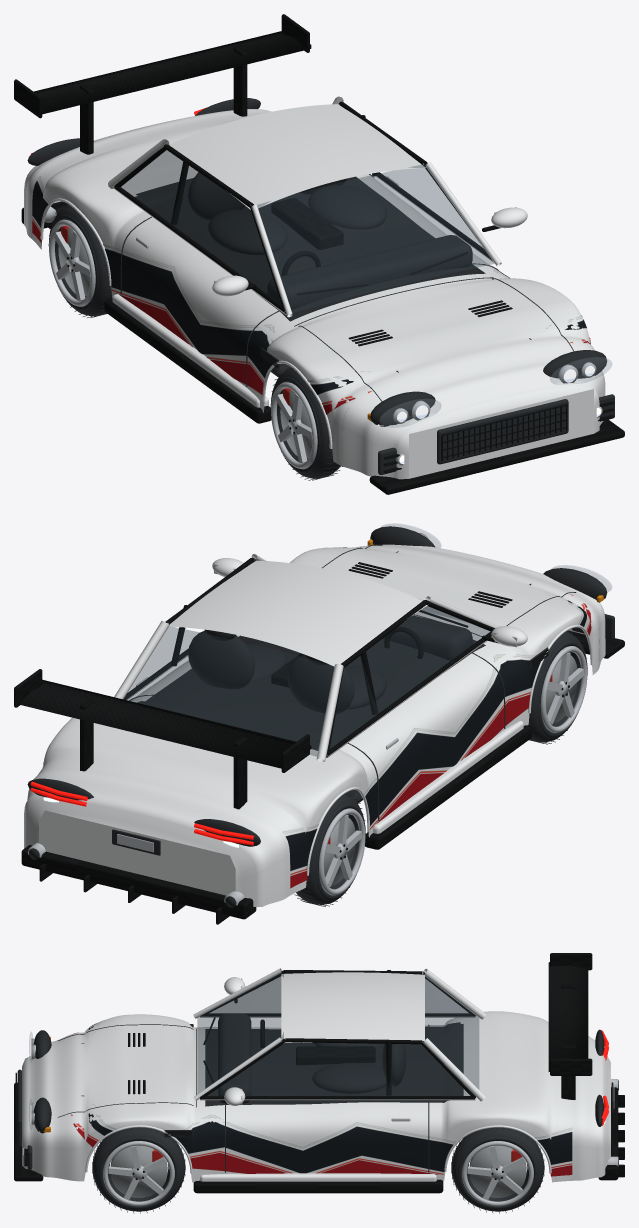
The model's file is tuner-coupe.glb.
3 views of the same model, one above another, from view 1: azimuth 30°, elevation 25°; view 2: azimuth 150°, elevation 25°; view 3: azimuth 270°, elevation 25° (orthographic). The views are drawn at different scales.
Parts seen in each view (by area): view 1: Body / Paint Pearl, Body / Glass glazing, Body / Carbon trim, Body / Interior and vents, Body / Vinyl graphic, Body / Clear lamp lens, WheelRearR / Forged alloy, WheelFrontR / Forged alloy, WheelFrontR / Tire rubber, WheelRearR / Tire rubber, Body / Panel gaps, Body / Forged alloy; view 2: Body / Paint Pearl, Body / Glass glazing, Body / Carbon trim, Body / Interior and vents, Body / Vinyl graphic, WheelRearR / Forged alloy, WheelFrontR / Forged alloy, WheelRearR / Tire rubber, WheelFrontR / Tire rubber, Body / Brakelight red, Body / Forged alloy, WheelFrontR / Brake disc (+3 smaller); view 3: Body / Paint Pearl, Body / Glass glazing, Body / Carbon trim, Body / Vinyl graphic, Body / Interior and vents, WheelRearL / Tire rubber, WheelFrontL / Tire rubber, WheelRearL / Forged alloy, WheelFrontL / Forged alloy, WheelFrontL / Brake disc, WheelRearL / Brake disc, Body / Panel gaps (+1 smaller).
Part boxes in pixels (box(x1,y1,x2,y2)): Body / Paint Pearl: box(24, 96, 605, 479); Body / Glass glazing: box(121, 150, 494, 312); Body / Carbon trim: box(14, 14, 624, 494); Body / Interior and vents: box(27, 98, 614, 474); Body / Vinyl graphic: box(32, 176, 590, 429); Body / Clear lamp lens: box(379, 357, 611, 427); WheelRearR / Forged alloy: box(49, 219, 95, 306); WheelFrontR / Forged alloy: box(271, 382, 317, 469); WheelFrontR / Tire rubber: box(270, 367, 340, 478); WheelRearR / Tire rubber: box(48, 206, 111, 316); Body / Panel gaps: box(120, 174, 573, 401); Body / Forged alloy: box(44, 176, 602, 465); Body / Paint Pearl: box(24, 544, 605, 907); Body / Glass glazing: box(124, 559, 490, 756); Body / Carbon trim: box(14, 557, 624, 924); Body / Interior and vents: box(27, 526, 614, 907); Body / Vinyl graphic: box(38, 547, 599, 888); WheelRearR / Forged alloy: box(319, 808, 365, 895); WheelFrontR / Forged alloy: box(540, 646, 587, 732); WheelRearR / Tire rubber: box(296, 794, 365, 904); WheelFrontR / Tire rubber: box(528, 631, 587, 742); Body / Brakelight red: box(30, 781, 253, 845); Body / Forged alloy: box(27, 533, 517, 905); WheelFrontR / Brake disc: box(546, 655, 577, 722); Body / Paint Pearl: box(22, 968, 610, 1182); Body / Glass glazing: box(197, 972, 478, 1095); Body / Carbon trim: box(14, 953, 624, 1193); Body / Vinyl graphic: box(71, 1021, 572, 1176); Body / Interior and vents: box(17, 1013, 618, 1169); WheelRearL / Tire rubber: box(451, 1127, 544, 1211); WheelFrontL / Tire rubber: box(92, 1127, 185, 1211); WheelRearL / Forged alloy: box(462, 1141, 533, 1206); WheelFrontL / Forged alloy: box(103, 1141, 174, 1206); WheelFrontL / Brake disc: box(110, 1145, 167, 1197); WheelRearL / Brake disc: box(469, 1145, 526, 1197); Body / Panel gaps: box(58, 1024, 429, 1172).
Size of the model in its own units: 2.2 by 1.36 by 4.6.
Materials: 14 (2 with a texture image).
